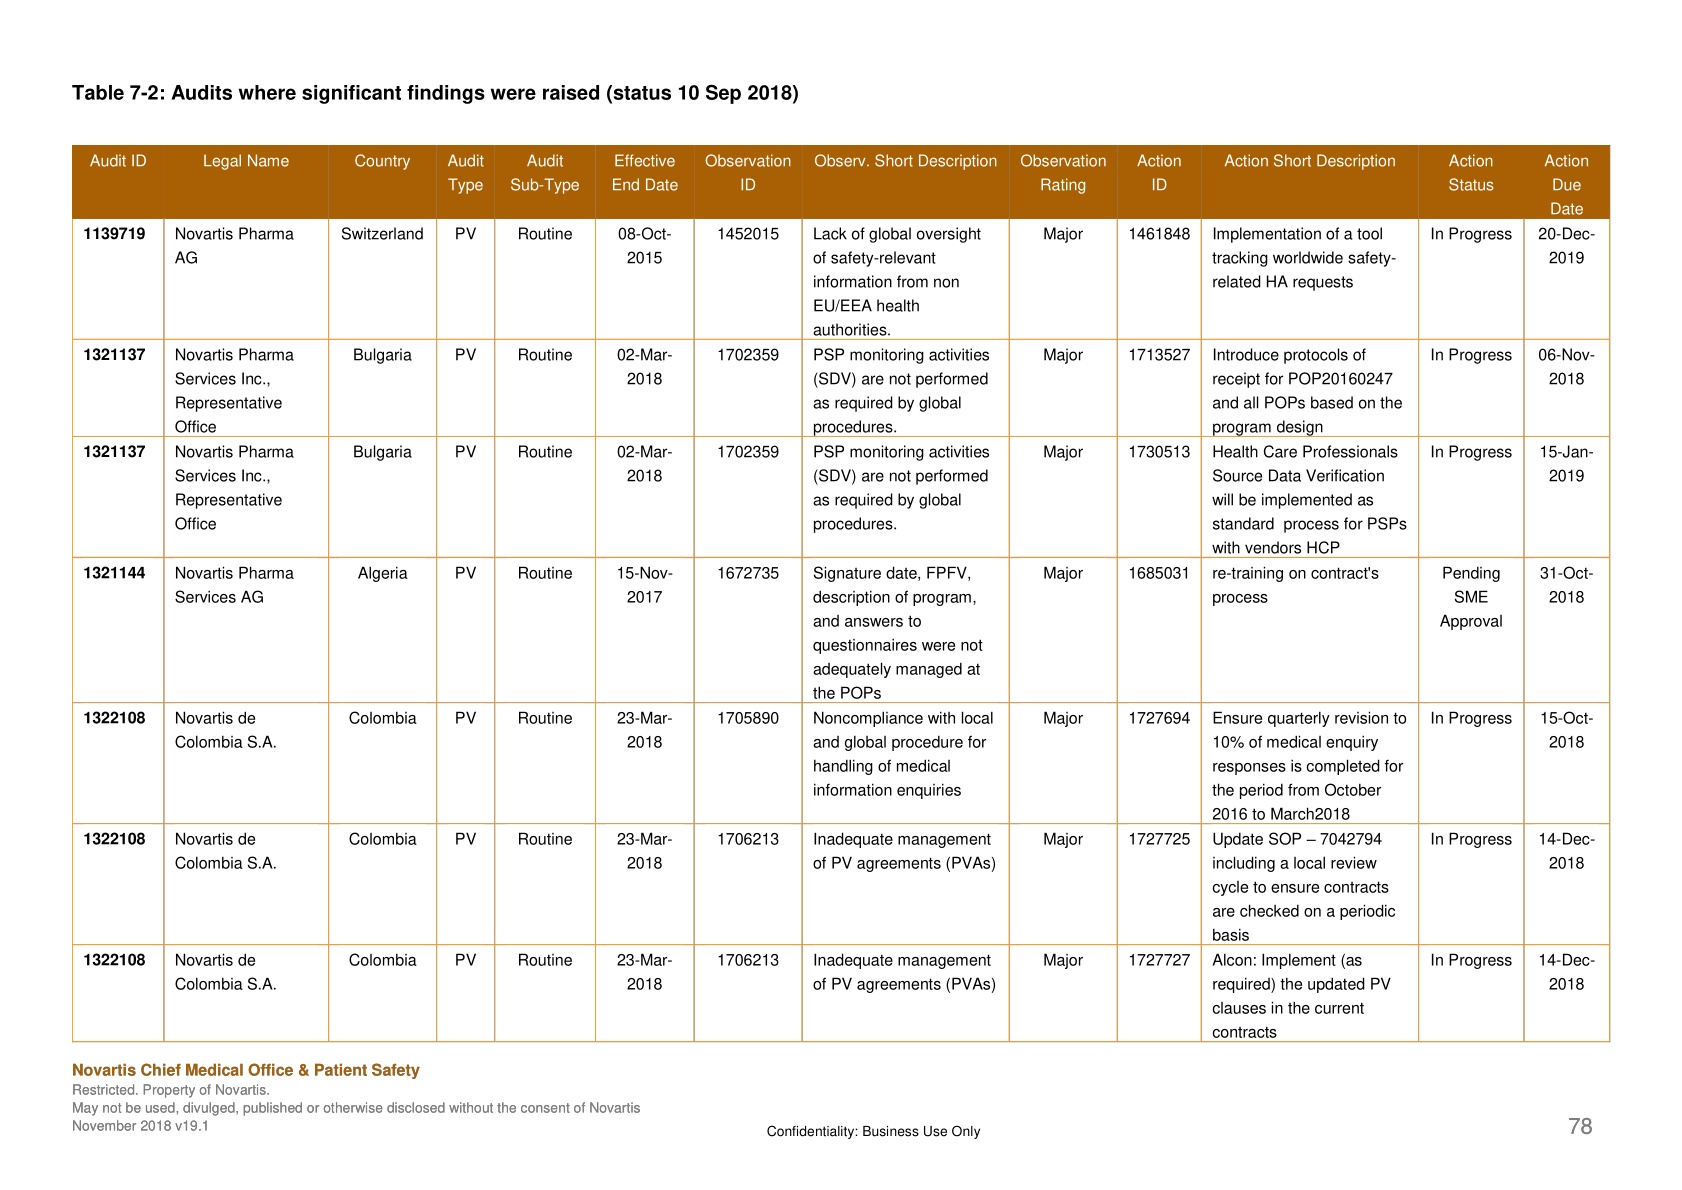full_lined: (70, 144, 1611, 1041)
